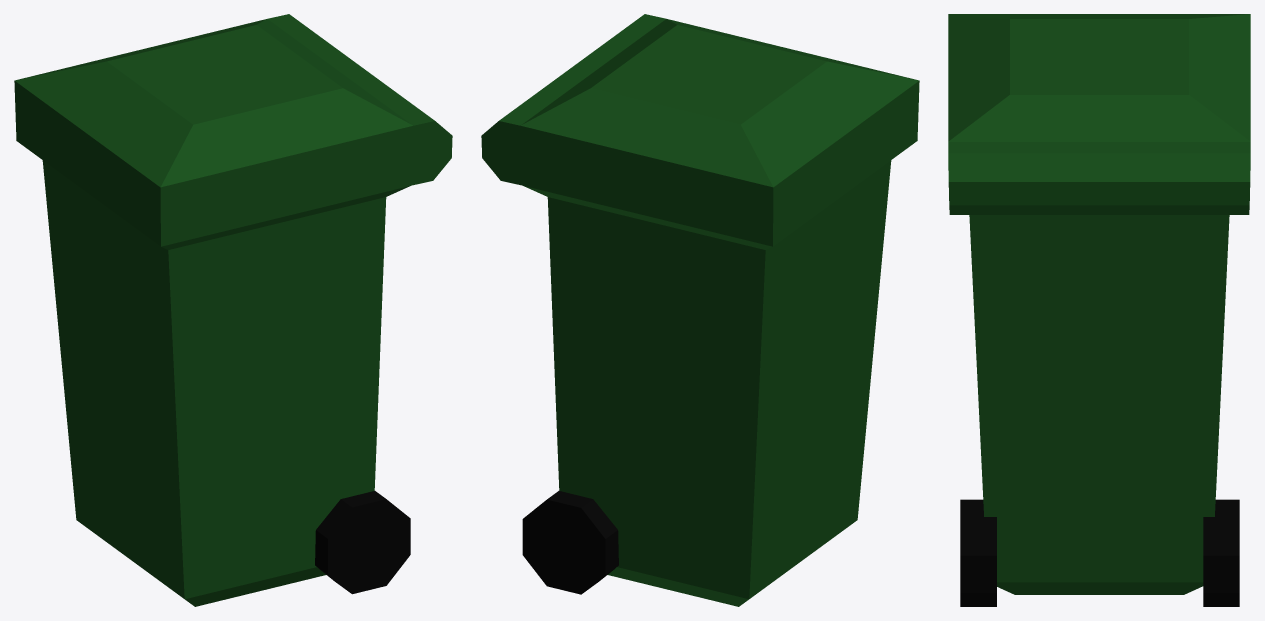
The model's file is roskis.glb.
3 views of the same model, side by side, from view 1: azimuth 30°, elevation 25°; view 2: azimuth 150°, elevation 25°; view 3: azimuth 270°, elevation 25° (orthographic). The views are drawn at different scales.
Parts seen in each view (by area): view 1: Cube; view 2: Cube; view 3: Cube.
Part boxes in pixels (x1,y1,x2,y2): Cube: (14, 14, 452, 606); Cube: (481, 14, 919, 606); Cube: (948, 14, 1250, 606).
Bounding box in the file's own units: 0.6719 × 1.07 × 0.5816.
